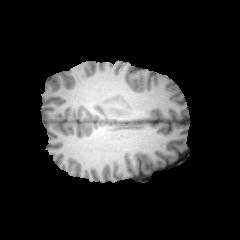glioma: (95, 94, 132, 117)
